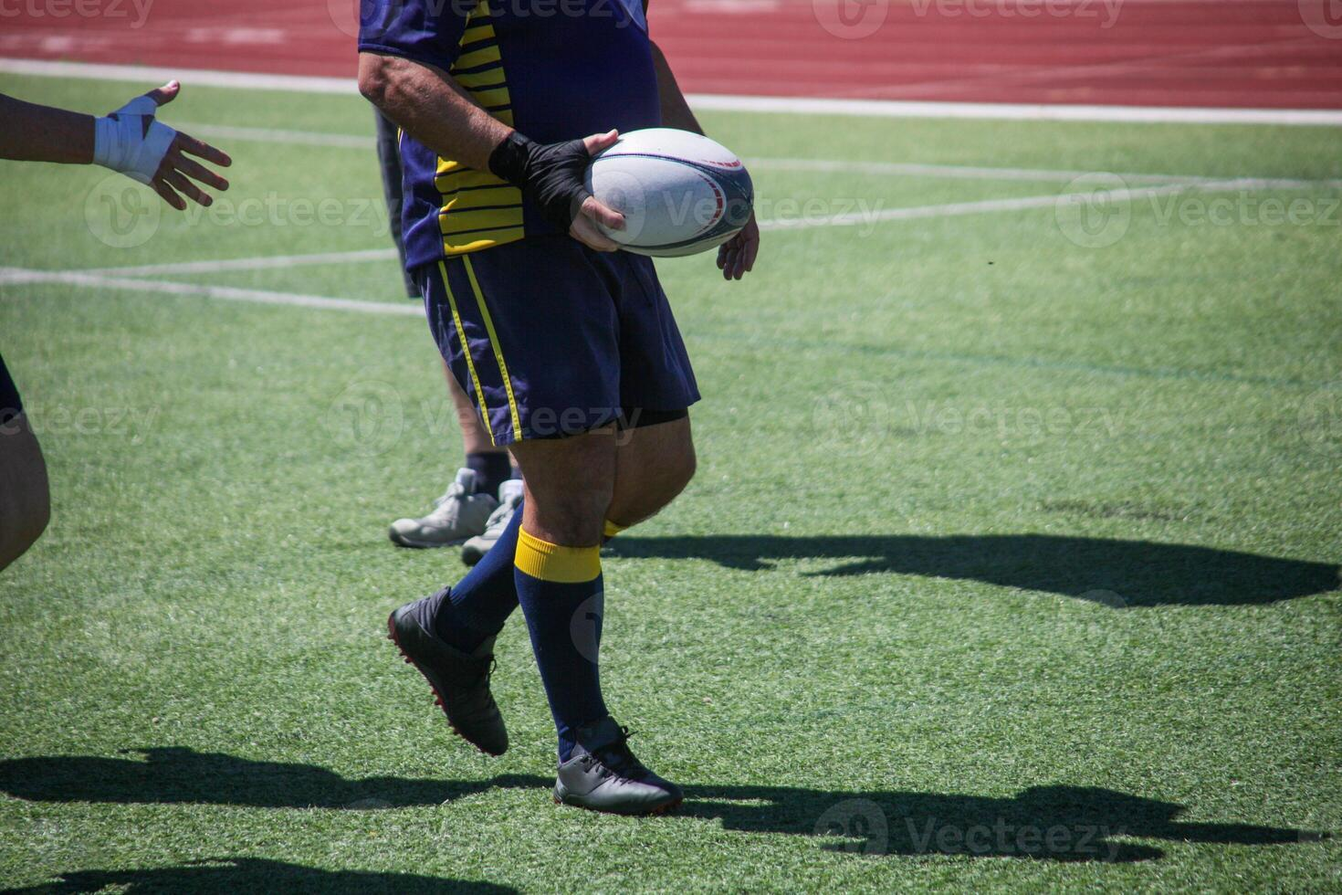ballon_rugby: (570, 116, 764, 265)
